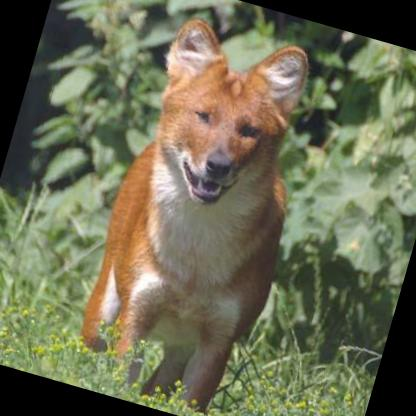dhole: (64, 9, 335, 416)
